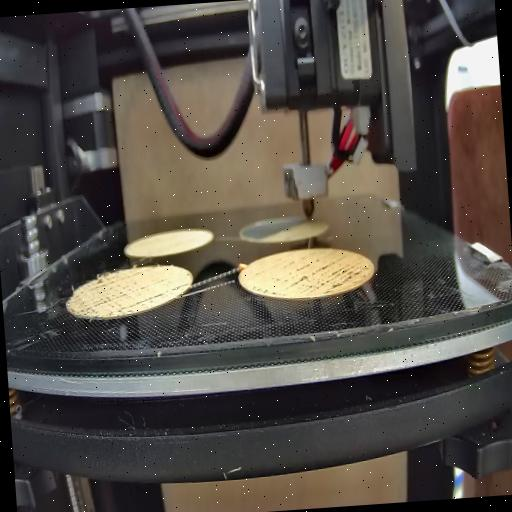under_extrusion: (250, 252, 372, 296), (78, 270, 154, 316), (152, 278, 190, 301)
